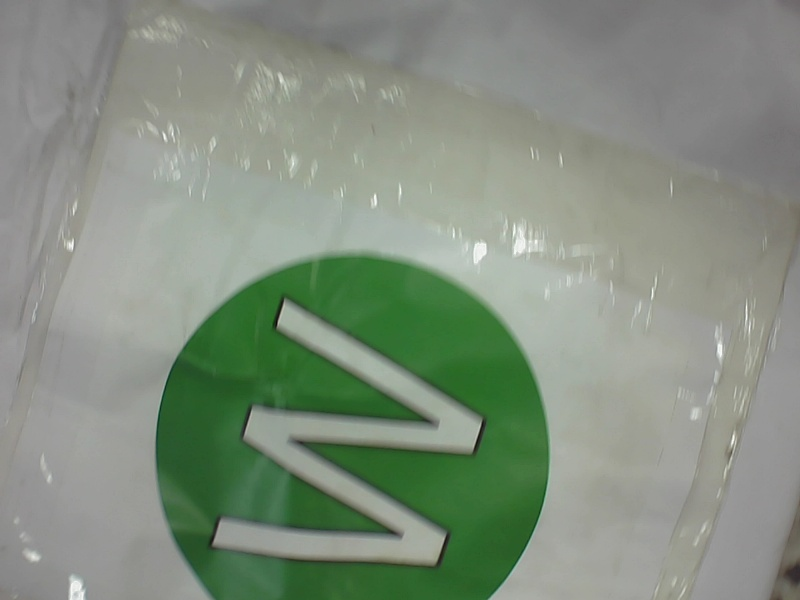areaB: (124, 247, 569, 598)
